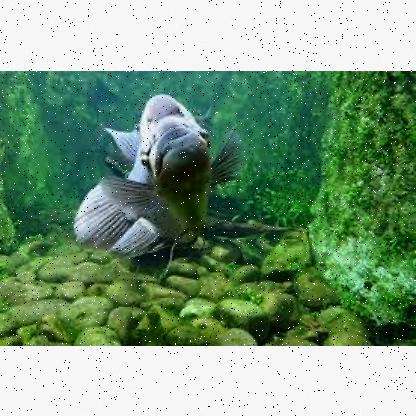gurame: (70, 88, 268, 268)
